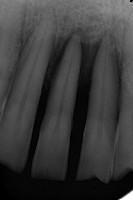Dental Caries: (41, 31, 102, 95)
